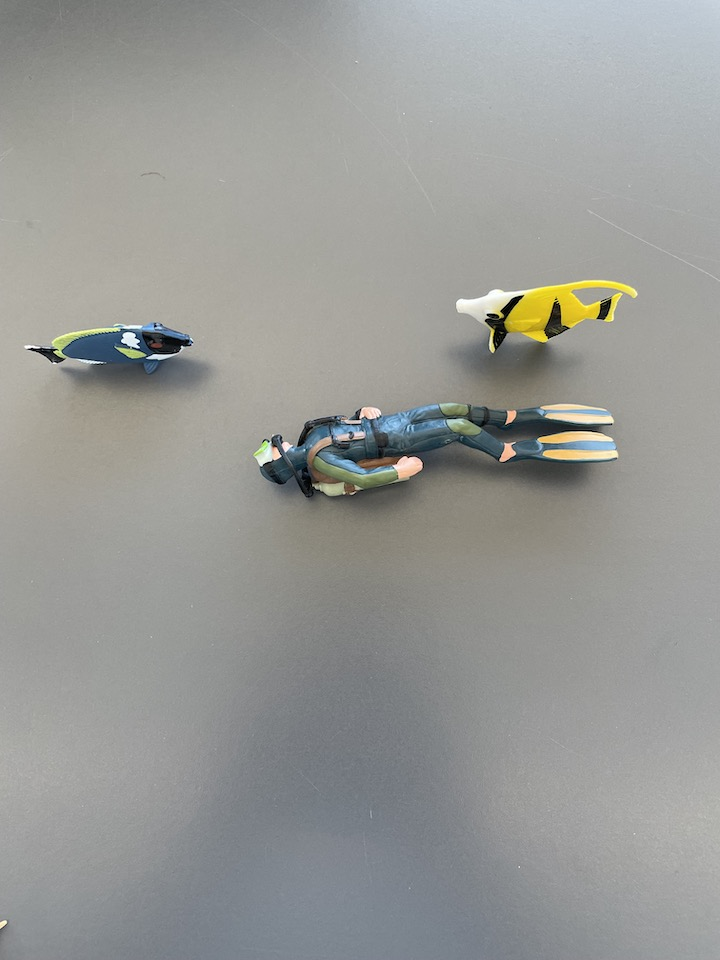danger: (449, 277, 642, 358)
diver: (248, 399, 624, 506)
fish: (22, 316, 196, 381)
